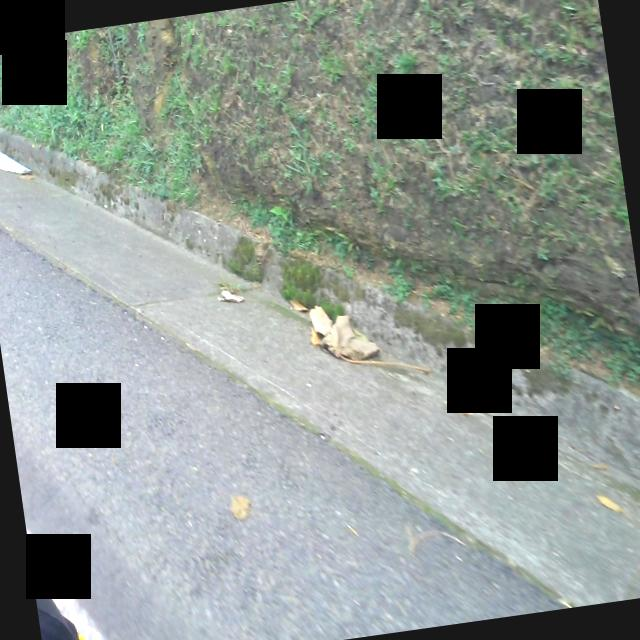DITCH: (0, 12, 640, 640), (0, 36, 640, 640)
